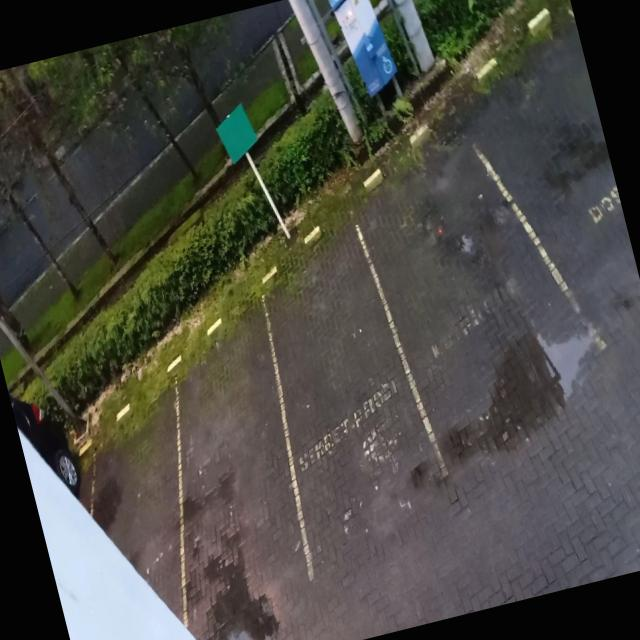free: (343, 114, 620, 484), (232, 220, 465, 586), (129, 302, 341, 640), (448, 13, 640, 378)
